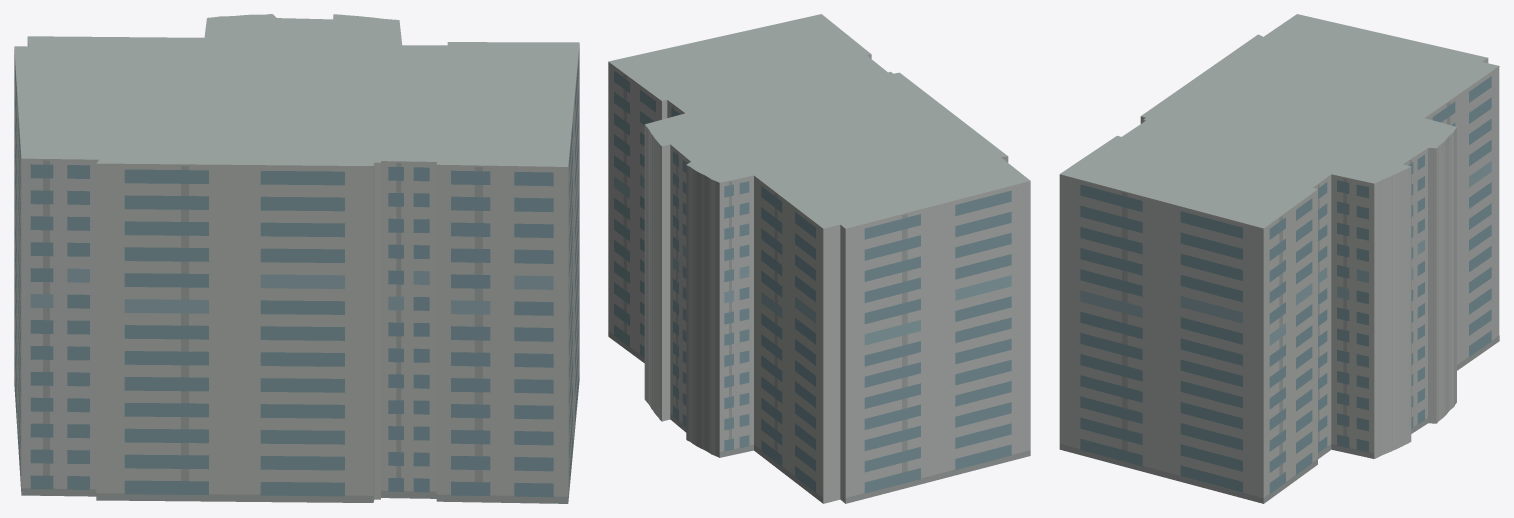
Rendered from survey-upis-33019957.glb.
3 views of the same model, side by side, from view 1: azimuth 30°, elevation 25°; view 2: azimuth 150°, elevation 25°; view 3: azimuth 270°, elevation 25° (orthographic). The views are drawn at different scales.
Visible parts, largest first — view 1: survey-upis-33019957.tmp; view 2: survey-upis-33019957.tmp; view 3: survey-upis-33019957.tmp.
Part boxes in pixels (x1,y1,x2,y2): survey-upis-33019957.tmp: (14, 14, 579, 503); survey-upis-33019957.tmp: (608, 14, 1030, 503); survey-upis-33019957.tmp: (1059, 14, 1499, 503).
Bounding box in the file's own units: 89.72 × 53.7 × 77.75.
